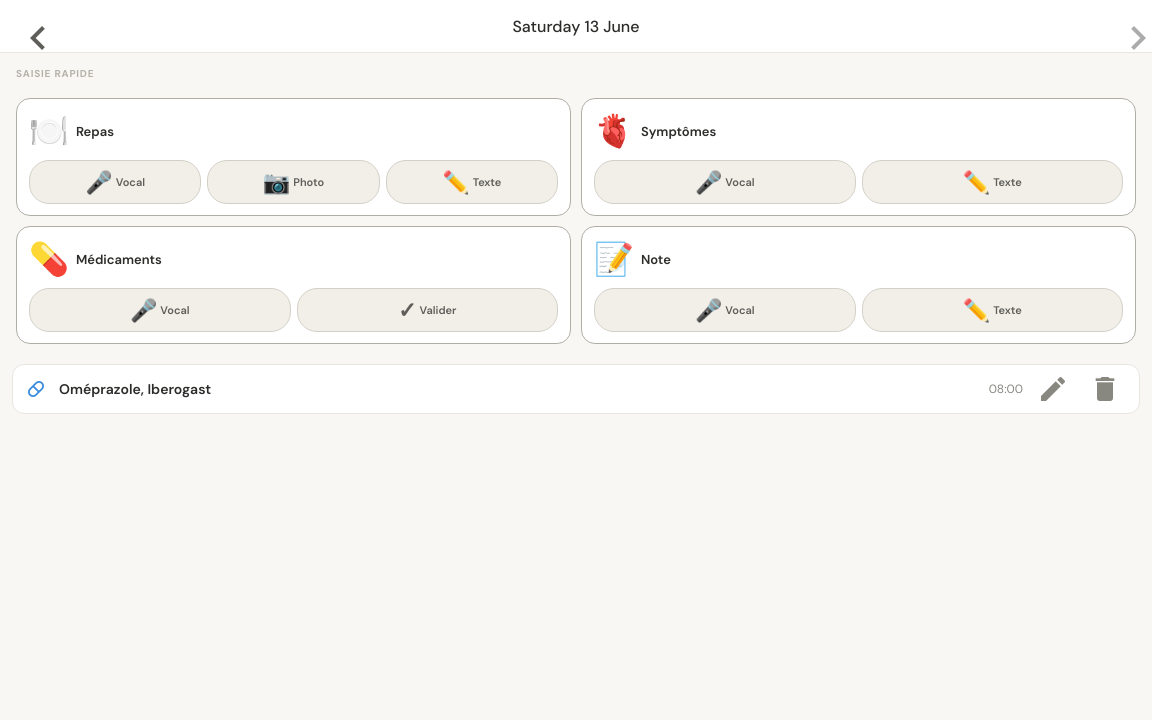
Test: JournalHomeComponent › regroupement des prises à la même heure › supprimer un groupe efface toutes ses prises et les retire de la liste
Click the button with test id "delete-intake-group-btn": point(1105, 389) x1=1083 y1=367 x2=1127 y2=411
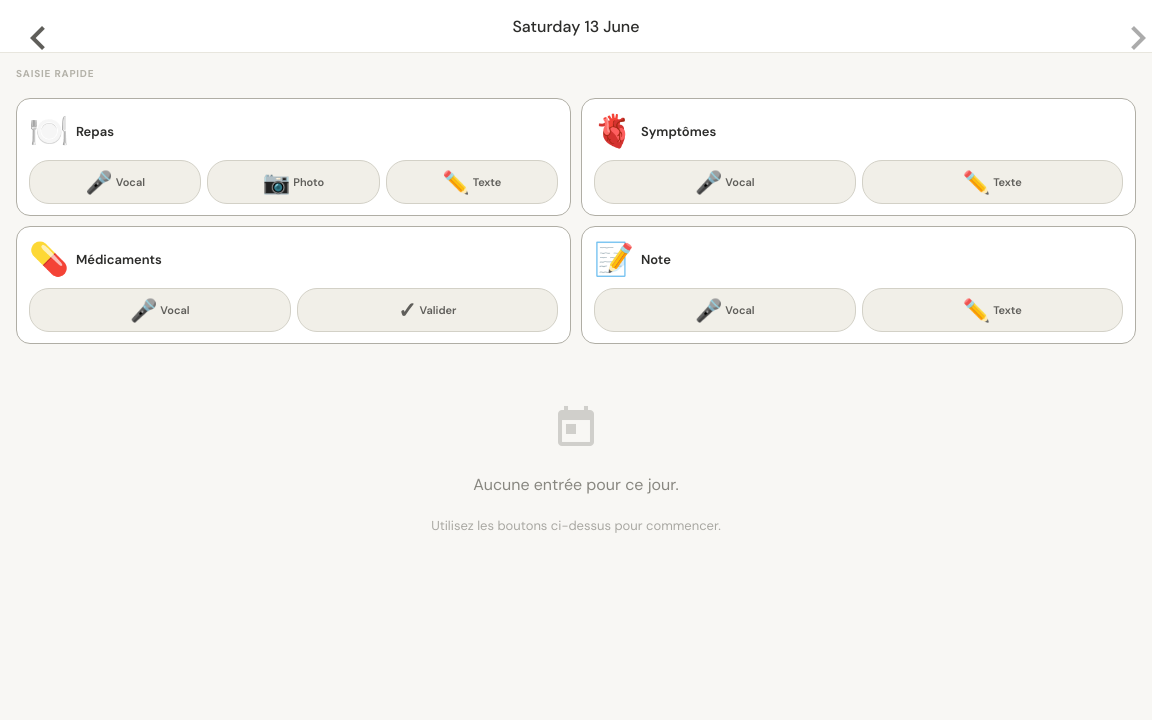
expect the element with test id "intake-entry" is gone: met
